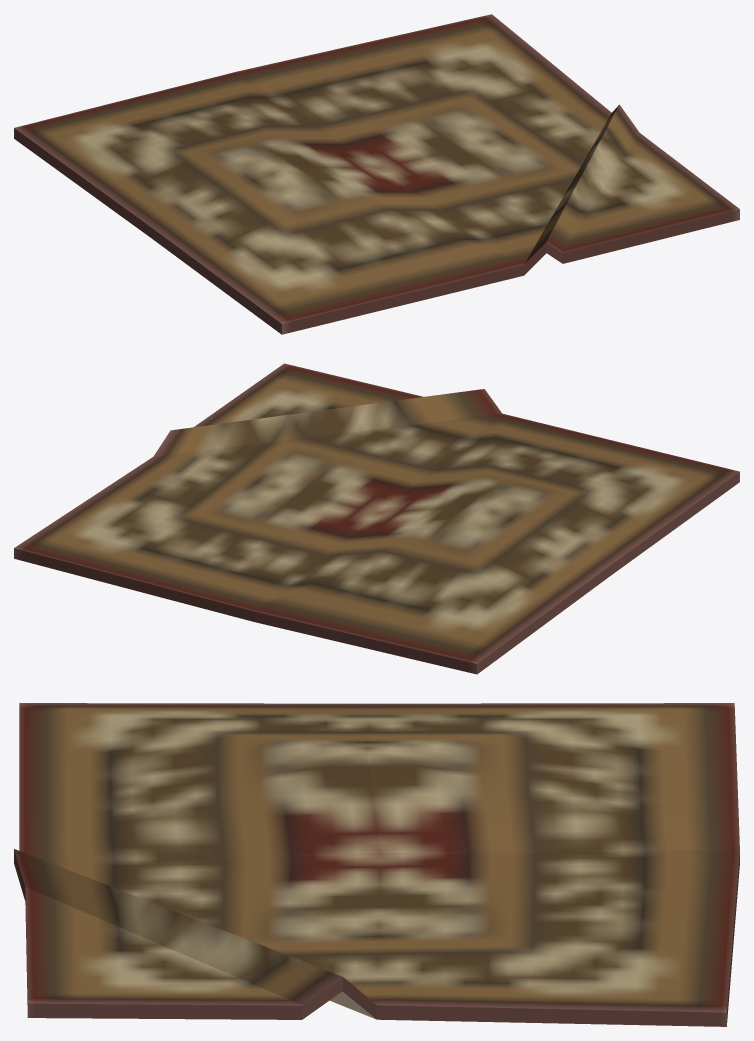
Rendered from SM_Prop_Rug_25.fbx.
3 views of the same model, one above another, from view 1: azimuth 30°, elevation 25°; view 2: azimuth 150°, elevation 25°; view 3: azimuth 270°, elevation 25° (orthographic). The views are drawn at different scales.
Parts seen in each view (by area): view 1: SM_Prop_Rug_25; view 2: SM_Prop_Rug_25; view 3: SM_Prop_Rug_25.
Boxes of the visible parts, x1,y1,x2,y2 form: SM_Prop_Rug_25: [14, 14, 739, 334]; SM_Prop_Rug_25: [14, 363, 739, 674]; SM_Prop_Rug_25: [14, 703, 739, 1026].
Size of the model in its own units: 154 by 11.99 by 153.
